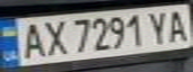1: (124, 11, 148, 47)
2: (90, 14, 112, 52)
7: (69, 16, 93, 54)
9: (106, 13, 130, 51)
A: (15, 19, 48, 60), (163, 7, 193, 43)
X: (39, 17, 69, 57)
Y: (145, 8, 172, 45)
